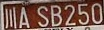A: (19, 7, 30, 28)
